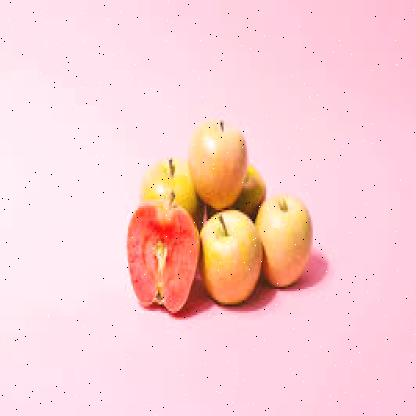apple: (198, 210, 268, 308), (256, 182, 316, 287), (138, 149, 206, 228), (191, 114, 244, 214)
damaged_apple: (126, 199, 202, 309)
